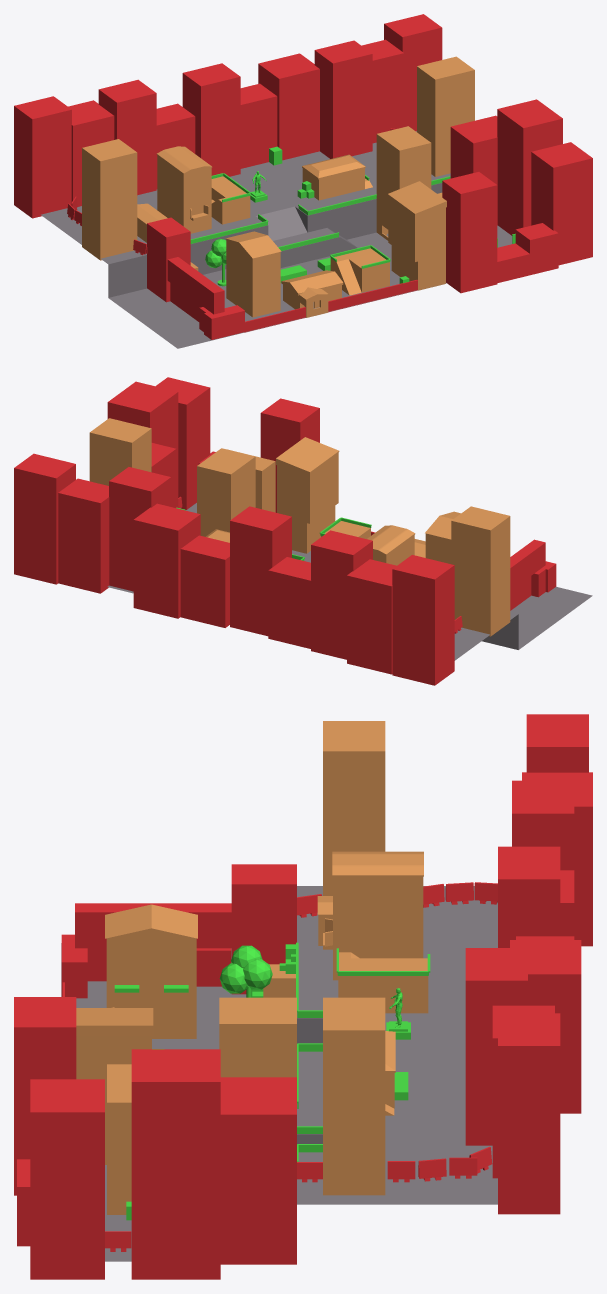
File: city_center.glb
3 renders of one model, top to bottom at view 1: azimuth 30°, elevation 25°; view 2: azimuth 150°, elevation 25°; view 3: azimuth 270°, elevation 25°, orthographic. The views are drawn at different scales.
Visible parts, largest first — view 1: Plane, Cube.071, Cube.069, Cube.083, Cube.054, Cube.088, Cube.082, Cube.002, Cube.057, Cube.056, Cube.001, Cube.015 (+21 smaller); view 2: Cube.071, Cube.069, Cube.059, Cube.057, Cube.001, Cube.055, Cube.002, Cube.068, Cube.070, Cube.054, Cube.018, Cube.004 (+13 smaller); view 3: Plane, Cube.082, Cube.083, Cube.058, Cube.059, Cube.056, Cube.016, Cube.015, Cube.069, Cube.054, Cube.088, Cube.004 (+17 smaller).
Part boxes in pixels (x1=…): Plane: x1=41, y1=131, x2=512, y2=348; Cube.071: x1=14, y1=96, x2=71, y2=218; Cube.069: x1=82, y1=139, x2=137, y2=260; Cube.083: x1=531, y1=142, x2=592, y2=265; Cube.054: x1=314, y1=40, x2=372, y2=158; Cube.088: x1=442, y1=172, x2=497, y2=293; Cube.082: x1=497, y1=99, x2=562, y2=235; Cube.002: x1=387, y1=181, x2=446, y2=290; Cube.057: x1=182, y1=63, x2=240, y2=176; Cube.056: x1=417, y1=56, x2=474, y2=176; Cube.001: x1=258, y1=53, x2=319, y2=160; Cube.015: x1=225, y1=231, x2=281, y2=317; Cube.071: x1=392, y1=555, x2=454, y2=685; Cube.069: x1=451, y1=506, x2=510, y2=636; Cube.059: x1=14, y1=453, x2=75, y2=584; Cube.057: x1=230, y1=506, x2=291, y2=636; Cube.001: x1=133, y1=503, x2=200, y2=618; Cube.055: x1=58, y1=478, x2=109, y2=593; Cube.002: x1=276, y1=437, x2=339, y2=553; Cube.068: x1=311, y1=530, x2=372, y2=659; Cube.070: x1=347, y1=559, x2=396, y2=674; Cube.054: x1=109, y1=467, x2=171, y2=591; Cube.018: x1=180, y1=535, x2=229, y2=627; Cube.004: x1=197, y1=448, x2=255, y2=536; Plane: x1=61, y1=886, x2=497, y2=1261; Cube.082: x1=131, y1=1049, x2=220, y2=1279; Cube.083: x1=30, y1=1079, x2=104, y2=1279; Cube.058: x1=220, y1=1077, x2=296, y2=1264; Cube.059: x1=498, y1=1013, x2=560, y2=1214; Cube.056: x1=323, y1=997, x2=385, y2=1195; Cube.016: x1=323, y1=851, x2=423, y2=980; Cube.015: x1=105, y1=904, x2=197, y2=1038; Cube.069: x1=323, y1=721, x2=385, y2=895; Cube.054: x1=465, y1=948, x2=527, y2=1145; Cube.088: x1=14, y1=997, x2=76, y2=1195; Cube.004: x1=219, y1=997, x2=296, y2=1077.
Size of the model in its own units: 25.79 by 10.41 by 18.43.
